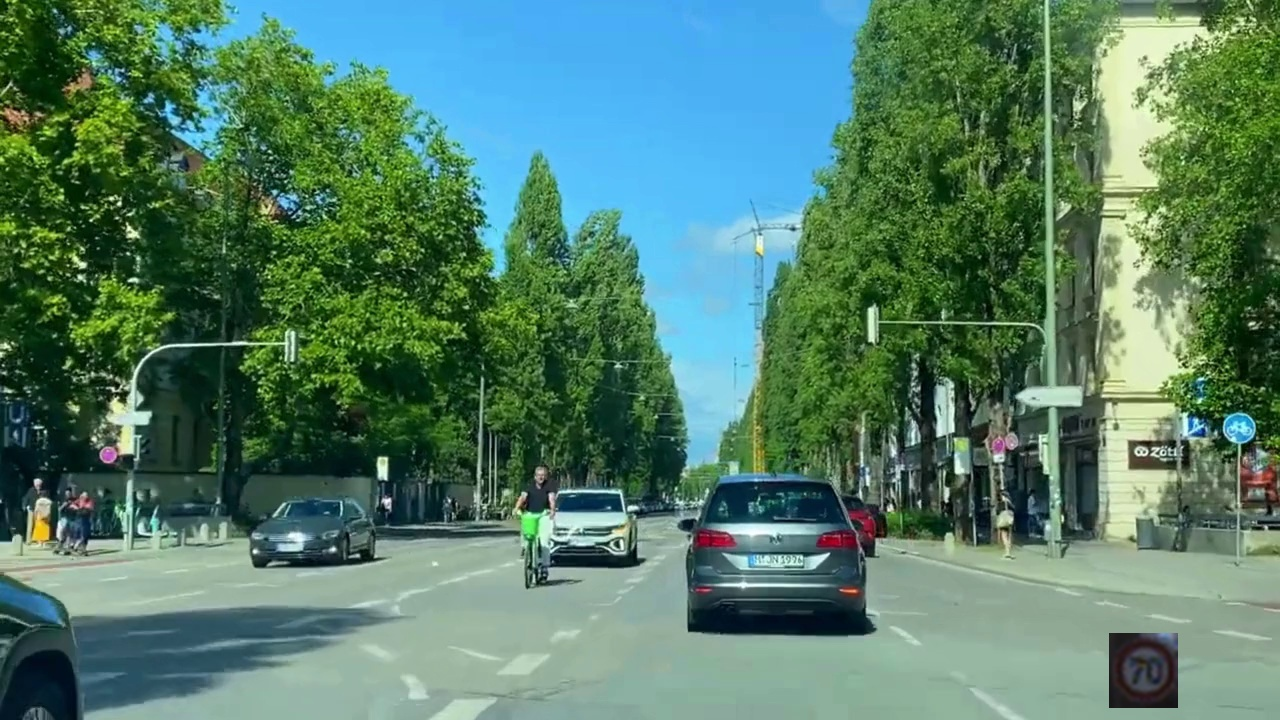Speed 70: (1109, 633, 1178, 708)
